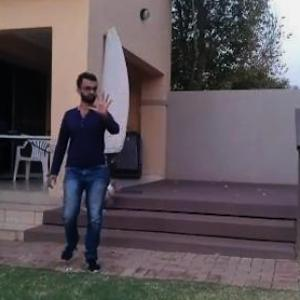follow_hand: (84, 85, 117, 119)
